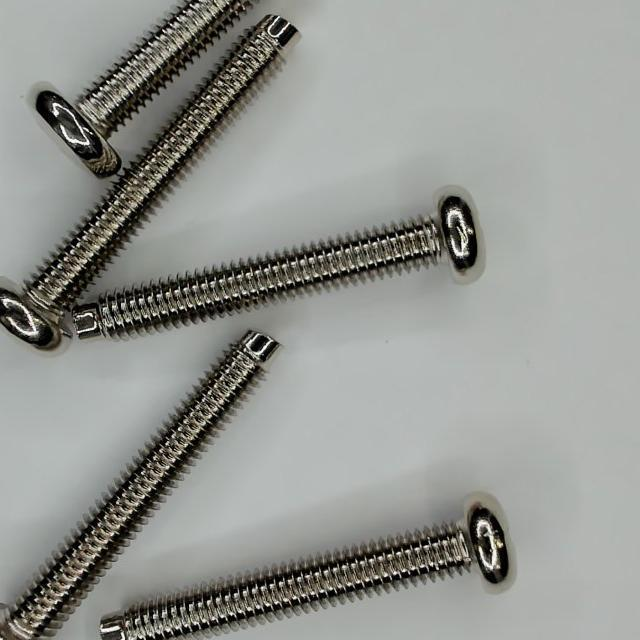Screw: (0, 14, 299, 350), (0, 331, 277, 640), (72, 194, 479, 338), (99, 500, 510, 640), (35, 0, 252, 176)
